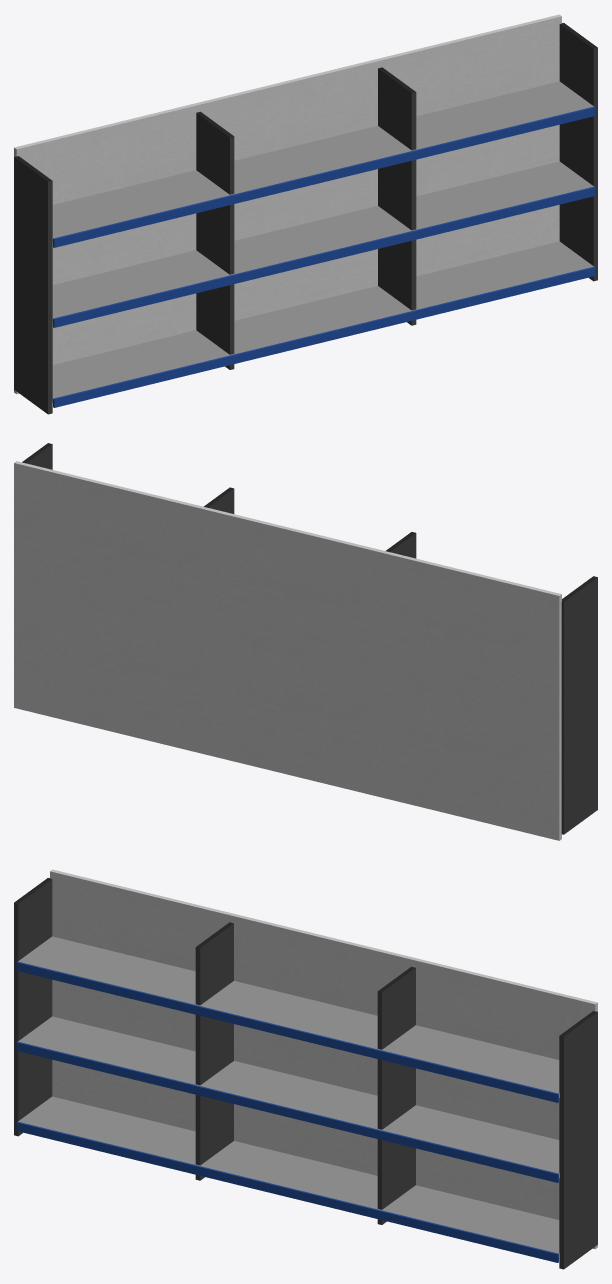
Rendered from huojia4.FBX.
3 renders of one model, top to bottom at view 1: azimuth 30°, elevation 25°; view 2: azimuth 150°, elevation 25°; view 3: azimuth 330°, elevation 25°, orthographic.
Visible parts, largest first — view 1: huojia8; view 2: huojia8; view 3: huojia8.
Part boxes in pixels (<box>): huojia8: <box>14,14,597,414</box>; huojia8: <box>14,443,597,840</box>; huojia8: <box>14,869,597,1269</box>.
Size of the model in its own units: 610 by 259 by 73.11.
